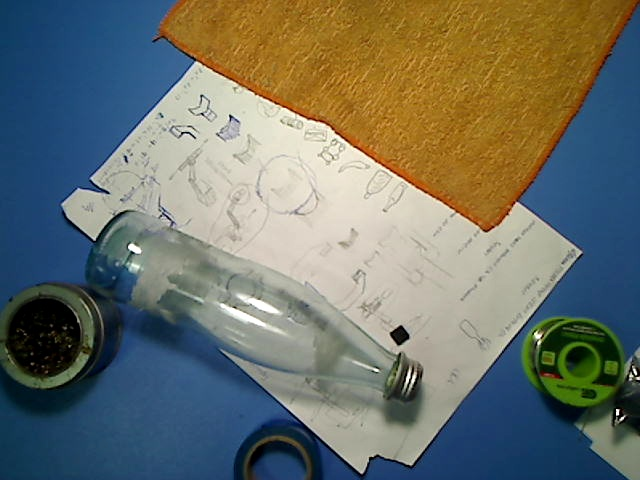bottle: (81, 209, 425, 403)
